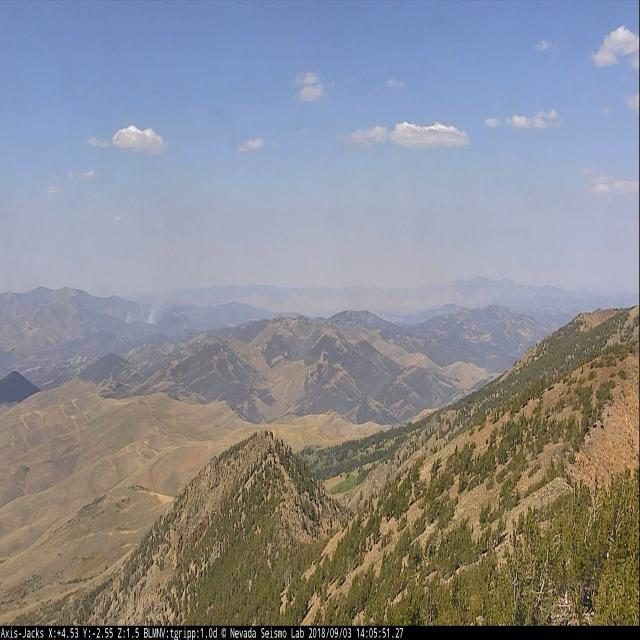smoke: (125, 304, 157, 326)
